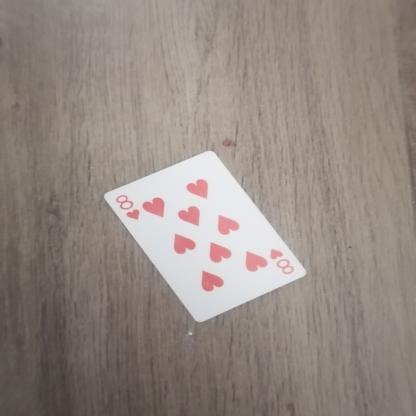8H: (105, 186, 142, 232), (268, 247, 306, 280)
